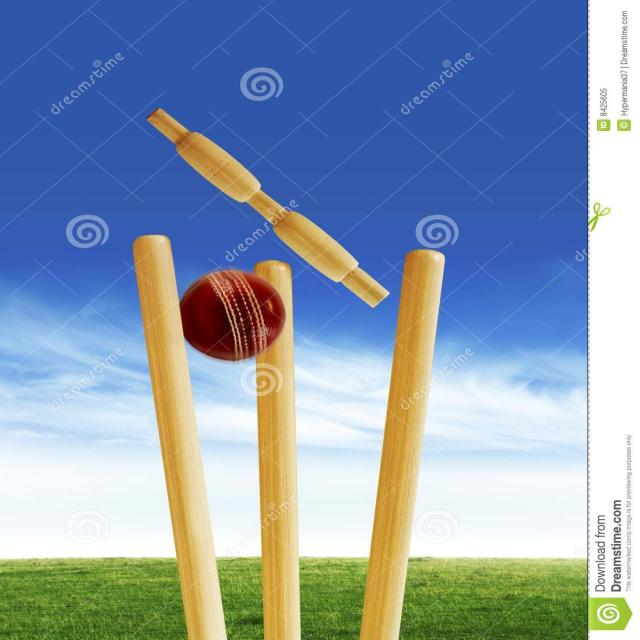stump: (133, 100, 449, 636)
